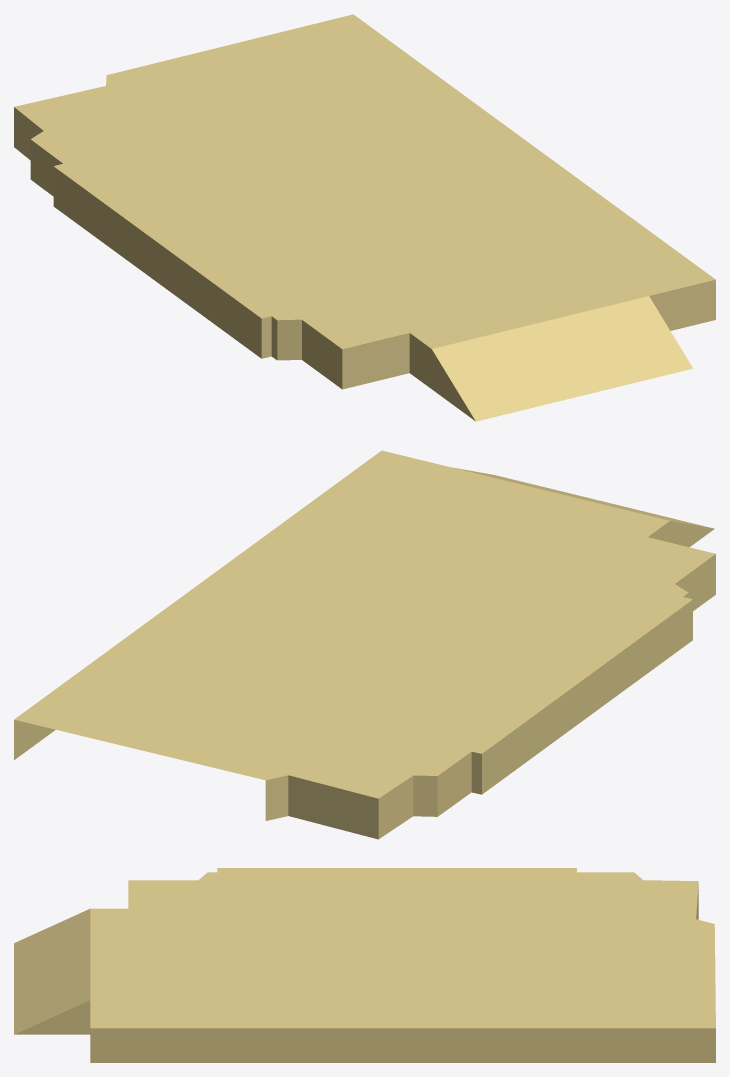
File: Floor_F0_Porch_collider.fbx
3 views of the same model, one above another, from view 1: azimuth 30°, elevation 25°; view 2: azimuth 150°, elevation 25°; view 3: azimuth 270°, elevation 25° (orthographic). The views are drawn at different scales.
Visible parts, largest first — view 1: Floor_F0_Porch_collider; view 2: Floor_F0_Porch_collider; view 3: Floor_F0_Porch_collider.
Part boxes in pixels (left/top/right/bottom): Floor_F0_Porch_collider: left=14, top=14, right=715, bottom=421; Floor_F0_Porch_collider: left=14, top=450, right=715, bottom=839; Floor_F0_Porch_collider: left=14, top=868, right=715, bottom=1062.
Size of the model in its own units: 3.98 by 0.4025 by 7.37.
